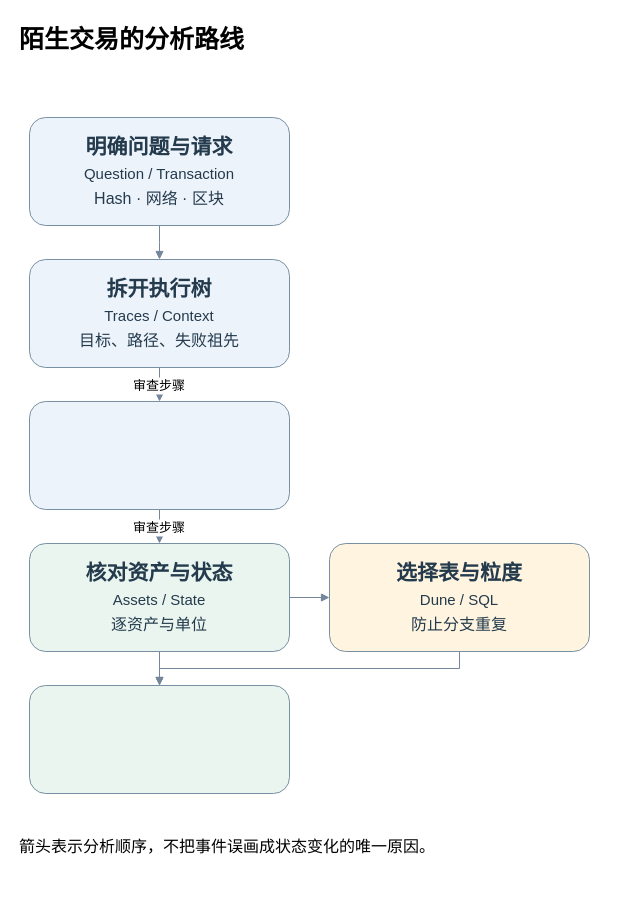
Image size: 618x917. Some labels were removed from this diagram. Here are the shapes that lost their labels. From the top down, the centre of each, then its label:
(159,455): 解读保留事件 Logs / ABI 索引、原字节与版本
(159,739): 形成可追溯结论 Evidence / Limits 取得与未证实分别说
